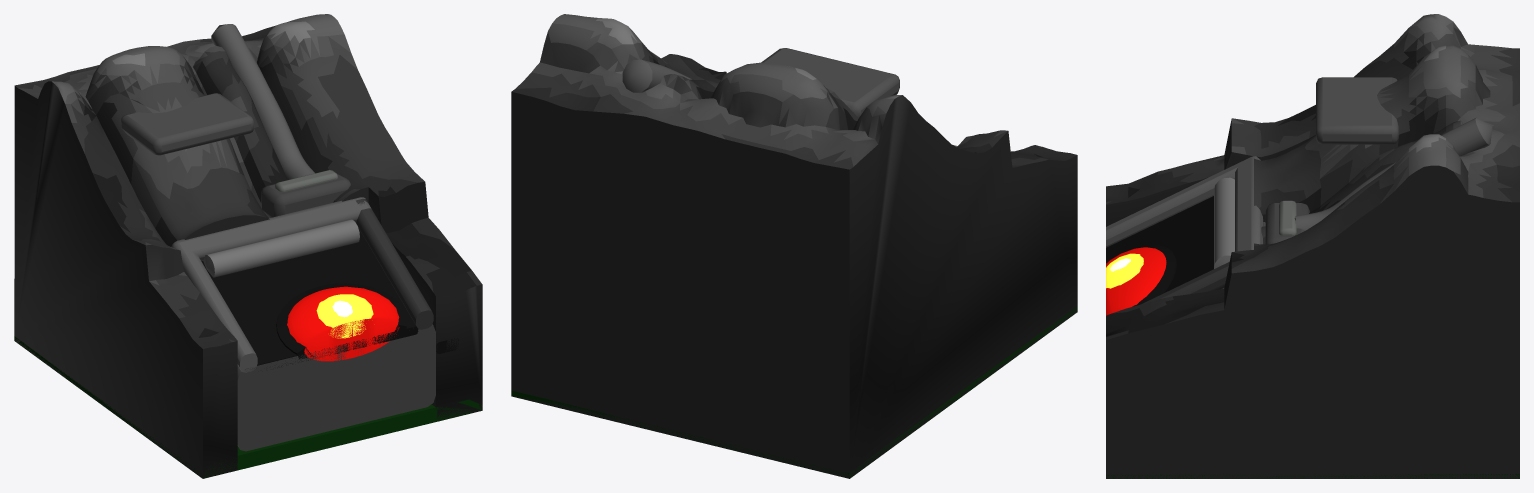
Rendered from cliff_bunker_top.glb.
3 views of the same model, side by side, from view 1: azimuth 30°, elevation 25°; view 2: azimuth 150°, elevation 25°; view 3: azimuth 270°, elevation 25° (orthographic). The views are drawn at different scales.
Visible parts, largest first — view 1: cliff, housing, well, eye, panel, foliage, pipe, frame_n, shutter, frame_e, frame_w, fitting (+3 smaller); view 2: cliff, panel, foliage, pipe; view 3: cliff, panel, well, frame_w, eye, frame_n, pipe, shutter, frame_e, foliage, fitting, eye_hot (+2 smaller).
Boxes of the visible parts, x1,y1,x2,y2 form: cliff: [14, 14, 482, 478]; housing: [237, 324, 435, 451]; well: [201, 228, 418, 367]; eye: [287, 286, 399, 361]; panel: [121, 93, 253, 155]; foliage: [14, 336, 482, 478]; pipe: [211, 24, 314, 179]; frame_n: [171, 197, 371, 260]; shutter: [203, 219, 359, 277]; frame_e: [355, 198, 433, 329]; frame_w: [173, 242, 257, 372]; fitting: [261, 174, 350, 218]; cliff: [511, 14, 1077, 478]; panel: [761, 48, 899, 117]; foliage: [511, 306, 1077, 478]; pipe: [622, 59, 692, 92]; cliff: [1106, 14, 1519, 478]; panel: [1316, 77, 1398, 144]; well: [1106, 196, 1213, 292]; frame_w: [1106, 158, 1250, 247]; eye: [1106, 247, 1166, 315]; frame_n: [1235, 156, 1263, 251]; pipe: [1294, 117, 1492, 230]; shutter: [1214, 177, 1234, 268]; frame_e: [1141, 262, 1229, 304]; foliage: [1106, 473, 1519, 478]; fitting: [1265, 203, 1309, 244]; eye_hot: [1106, 253, 1143, 288].
Bounding box in the file's own units: 24 × 24.01 × 28.
